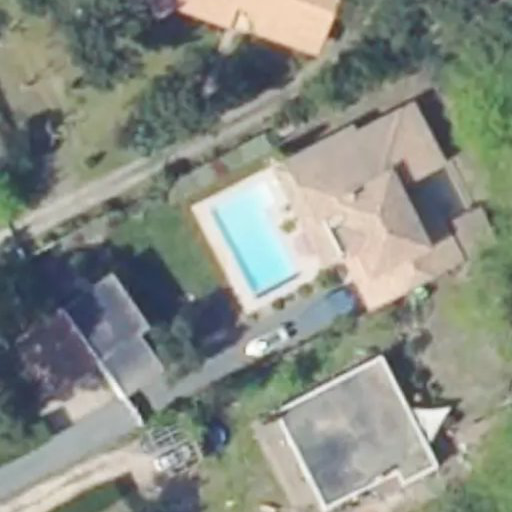pool: (209, 182, 302, 297)
